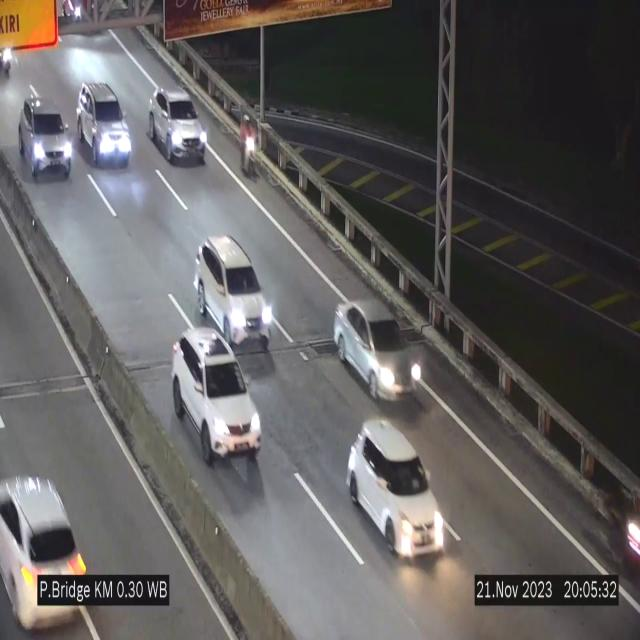Car: (0, 451, 96, 640), (347, 418, 445, 556), (172, 328, 262, 462), (334, 300, 424, 400), (195, 236, 266, 346), (593, 461, 640, 577), (76, 82, 132, 166), (19, 97, 73, 179), (148, 88, 206, 163)
Motorcycle: (237, 107, 258, 182)
